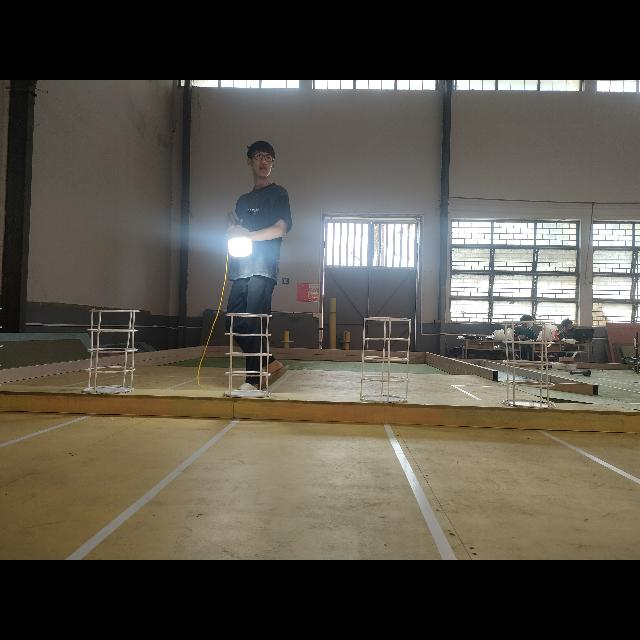S: (499, 314, 563, 406), (82, 306, 146, 396), (219, 311, 279, 399), (357, 319, 417, 403)
